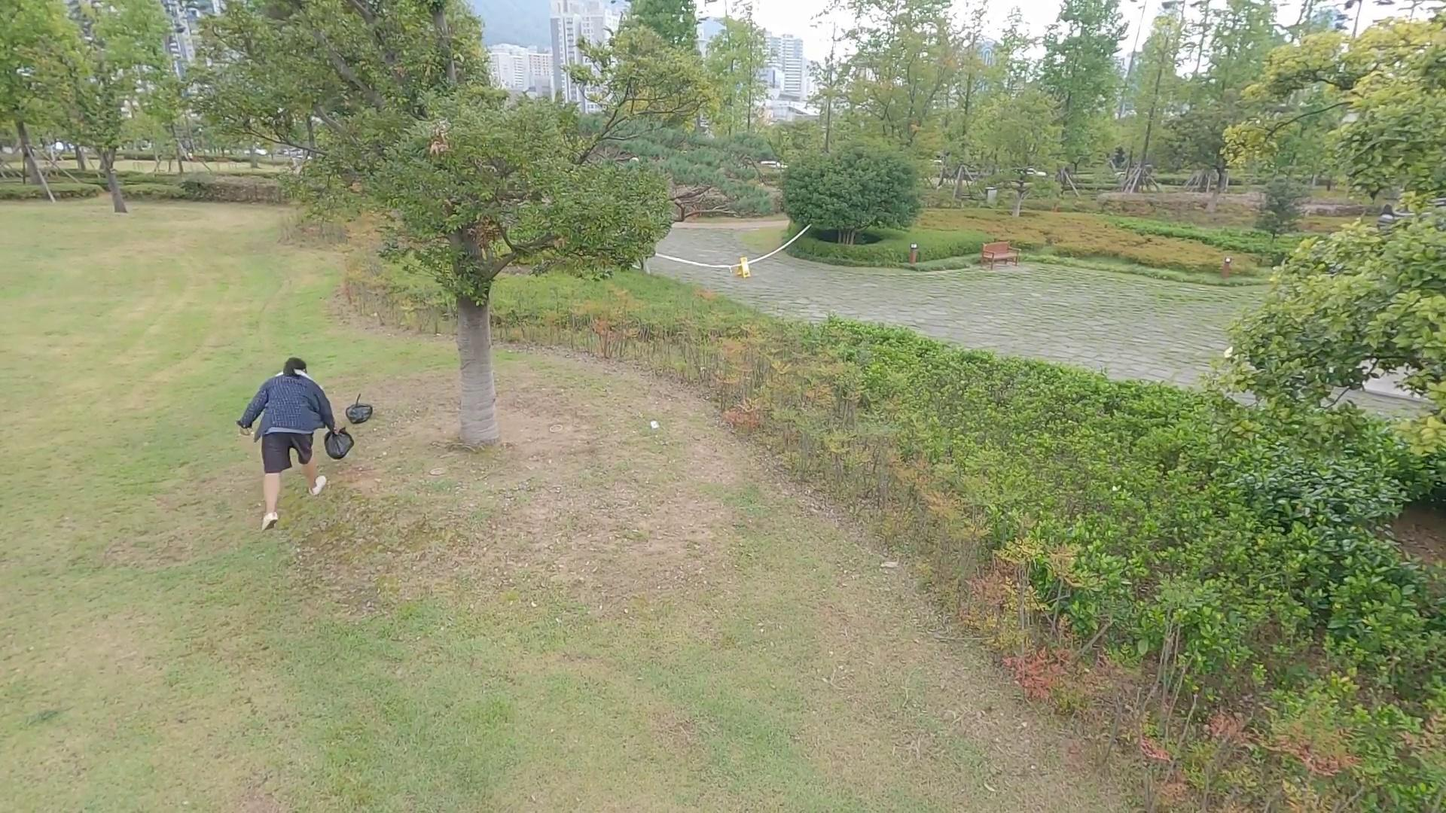person: (237, 355, 334, 533)
trash: (317, 431, 362, 465), (342, 397, 378, 428)
